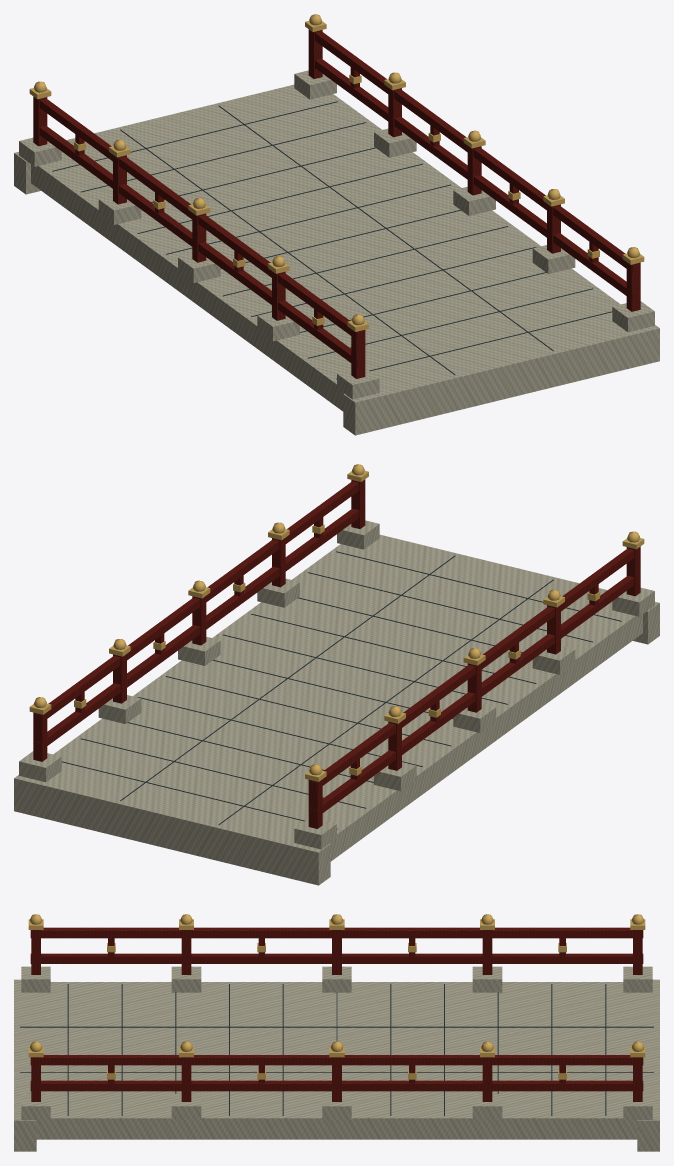
Rendered from bridge.glb.
3 renders of one model, top to bottom at view 1: azimuth 30°, elevation 25°; view 2: azimuth 150°, elevation 25°; view 3: azimuth 270°, elevation 25°, orthographic. The views are drawn at different scales.
Visible parts, largest first — view 1: bridge_Temple_Worn_Pale_Stone, bridge_Temple_Red_Timber, bridge_Temple_Dark_Ridge_and_Iron, bridge_Temple_Antique_Gold; view 2: bridge_Temple_Worn_Pale_Stone, bridge_Temple_Red_Timber, bridge_Temple_Dark_Ridge_and_Iron, bridge_Temple_Antique_Gold; view 3: bridge_Temple_Worn_Pale_Stone, bridge_Temple_Red_Timber, bridge_Temple_Dark_Ridge_and_Iron, bridge_Temple_Antique_Gold.
Part boxes in pixels (box(x1,y1,x2,y2)): bridge_Temple_Worn_Pale_Stone: box(14, 70, 659, 435); bridge_Temple_Red_Timber: box(33, 29, 640, 378); bridge_Temple_Dark_Ridge_and_Iron: box(52, 101, 612, 379); bridge_Temple_Antique_Gold: box(29, 14, 644, 331); bridge_Temple_Worn_Pale_Stone: box(14, 520, 659, 885); bridge_Temple_Red_Timber: box(33, 479, 640, 828); bridge_Temple_Dark_Ridge_and_Iron: box(61, 551, 621, 829); bridge_Temple_Antique_Gold: box(29, 464, 644, 781); bridge_Temple_Worn_Pale_Stone: box(14, 966, 659, 1151); bridge_Temple_Red_Timber: box(30, 927, 643, 1101); bridge_Temple_Dark_Ridge_and_Iron: box(20, 984, 653, 1115); bridge_Temple_Antique_Gold: box(28, 914, 645, 1079).
Bounding box in the file's own units: 6.2 × 2.12 × 12.02.
4 materials, 2 textured.
